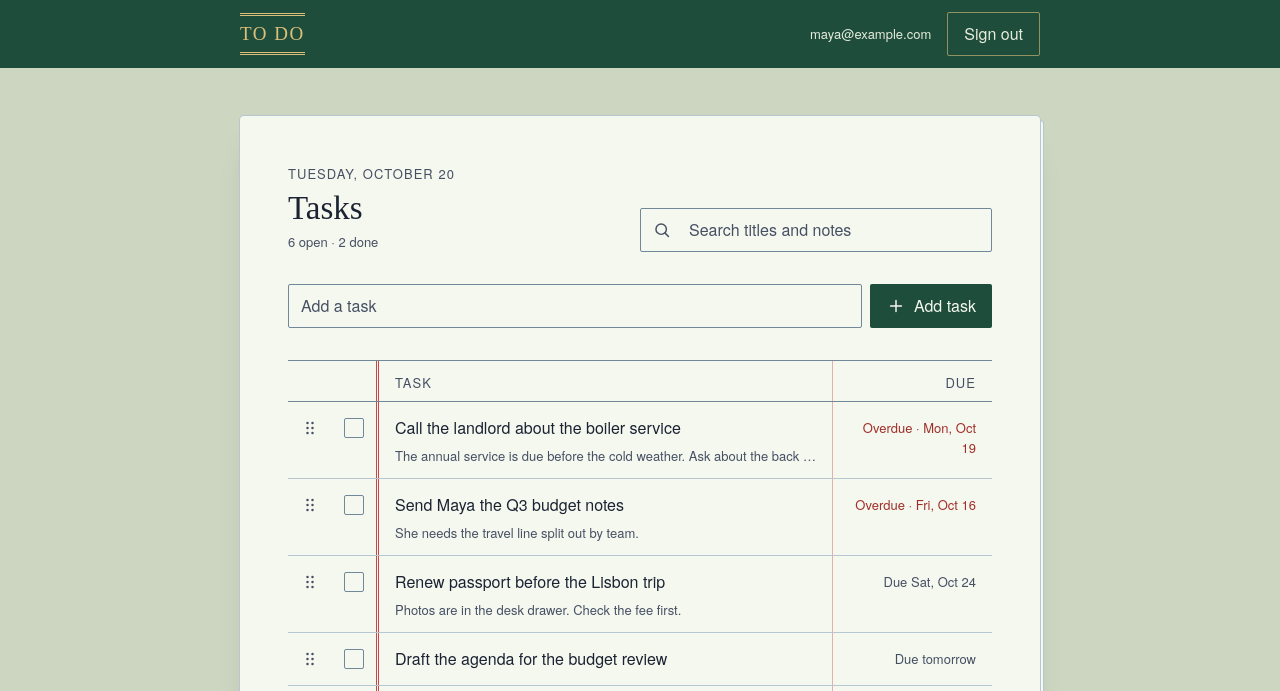
Test: TaskListPage › removes the row and says why when a toggle gets 404
Click the checkbox named "Completed: Renew passport before the Lisbon trip" at {"x": 354, "y": 582}, box [332,560,376,604]
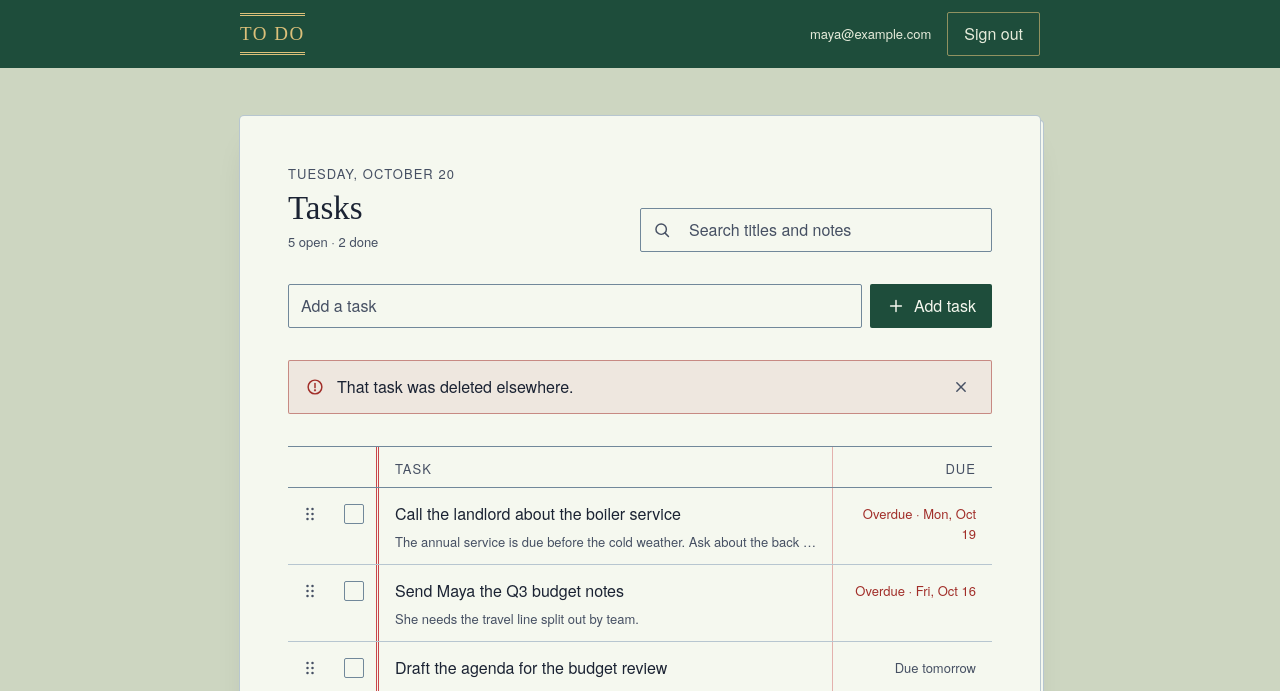
Check: the message "That task was deleted elsewhere." is shown, box [288,360,992,414]
Check: the link "Renew passport before the Lisbon trip" is gone
